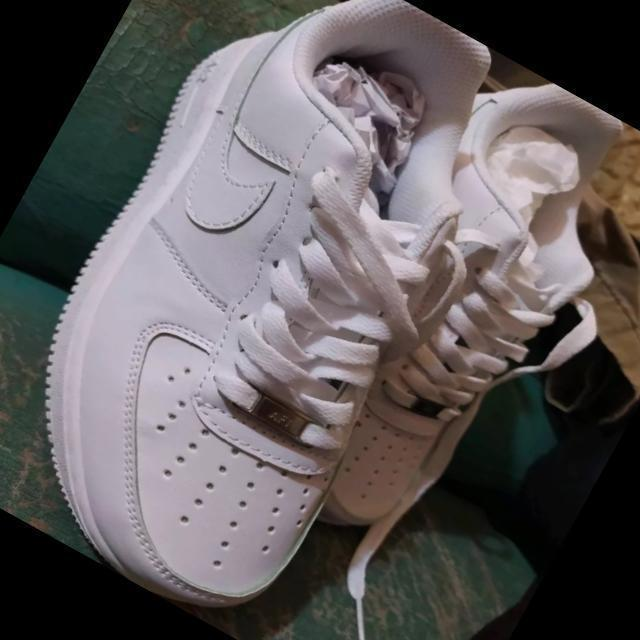nike fake air force: (0, 0, 572, 640), (216, 31, 640, 603)
